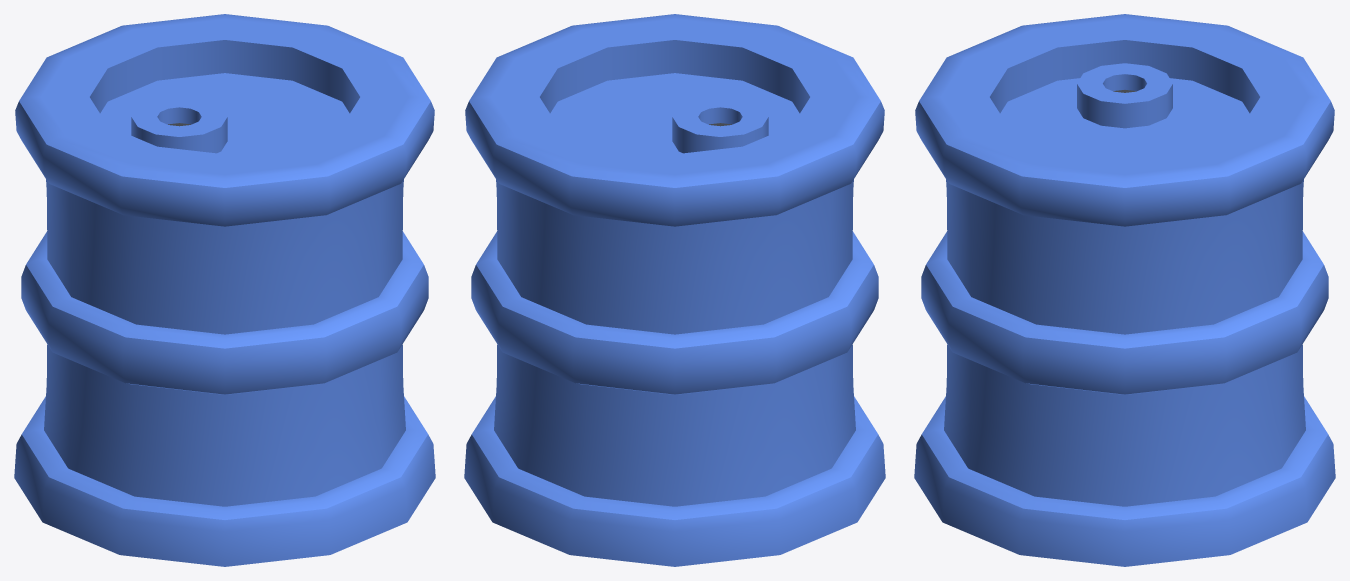
The model's file is Barrel_C.fbx.
3 views of the same model, side by side, from view 1: azimuth 30°, elevation 25°; view 2: azimuth 150°, elevation 25°; view 3: azimuth 270°, elevation 25° (orthographic).
Visible parts, largest first — view 1: Barrel_C; view 2: Barrel_C; view 3: Barrel_C.
Part boxes in pixels (x1,y1,x2,y2): Barrel_C: (14, 14, 435, 566); Barrel_C: (464, 14, 885, 566); Barrel_C: (914, 14, 1335, 566).
Bounding box in the file's own units: 161 × 160 × 161.
